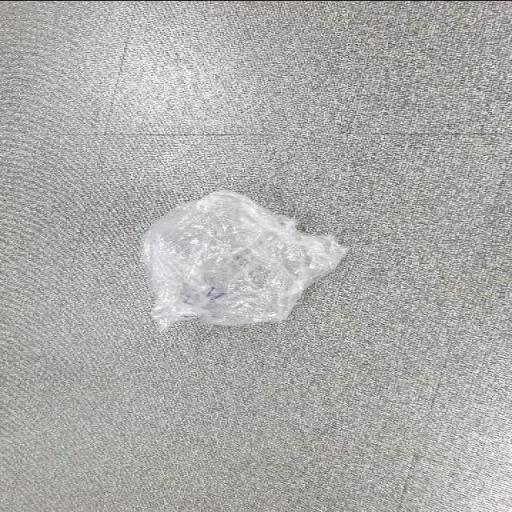plastic-bag: (133, 185, 347, 333)
